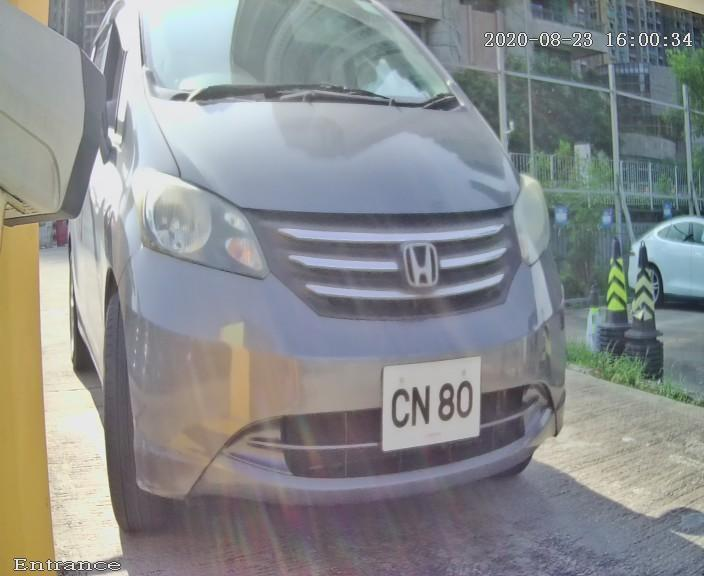License Plate: (341, 333, 513, 475)
